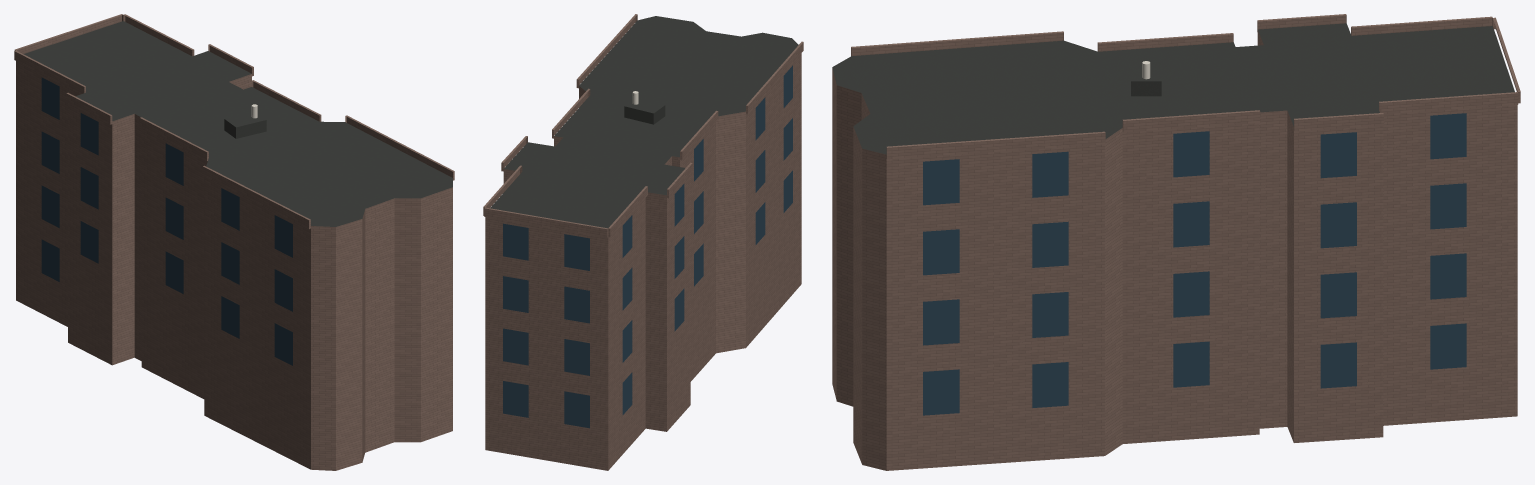
The picture shows the model from 3 angles, left to right: view 1: azimuth 30°, elevation 25°; view 2: azimuth 150°, elevation 25°; view 3: azimuth 270°, elevation 25°; orthographic projection. The views are drawn at different scales.
Parts seen in each view (by area): view 1: Footprint 0 / surface 2, Footprint 0 / surface 1, Inset glazing, Facade bay volumes; view 2: Footprint 0 / surface 2, Footprint 0 / surface 1, Inset glazing, Facade bay volumes, Inferred rooftop service enclosure / surface 6; view 3: Footprint 0 / surface 2, Footprint 0 / surface 1, Inset glazing, Facade bay volumes.
Boxes of the visible parts, left/top/right/bottom form: Footprint 0 / surface 2: left=16, top=61, right=452, bottom=470; Footprint 0 / surface 1: left=23, top=21, right=452, bottom=226; Inset glazing: left=41, top=77, right=292, bottom=365; Facade bay volumes: left=14, top=14, right=454, bottom=228; Footprint 0 / surface 2: left=485, top=53, right=801, bottom=470; Footprint 0 / surface 1: left=490, top=16, right=798, bottom=228; Inset glazing: left=503, top=65, right=792, bottom=428; Facade bay volumes: left=483, top=14, right=803, bottom=237; Inferred rooftop service enclosure / surface 6: left=624, top=106, right=653, bottom=124; Footprint 0 / surface 2: left=832, top=30, right=1517, bottom=470; Footprint 0 / surface 1: left=832, top=23, right=1514, bottom=154; Inset glazing: left=923, top=113, right=1466, bottom=415; Facade bay volumes: left=851, top=14, right=1520, bottom=159.
Size of the model in its own units: 12.47 by 15.04 by 27.11.
